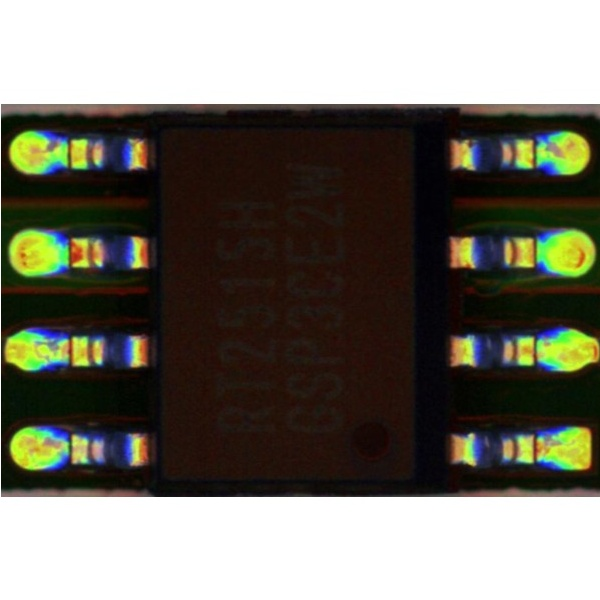Bad_podu: (514, 440, 558, 456), (52, 338, 86, 358)
